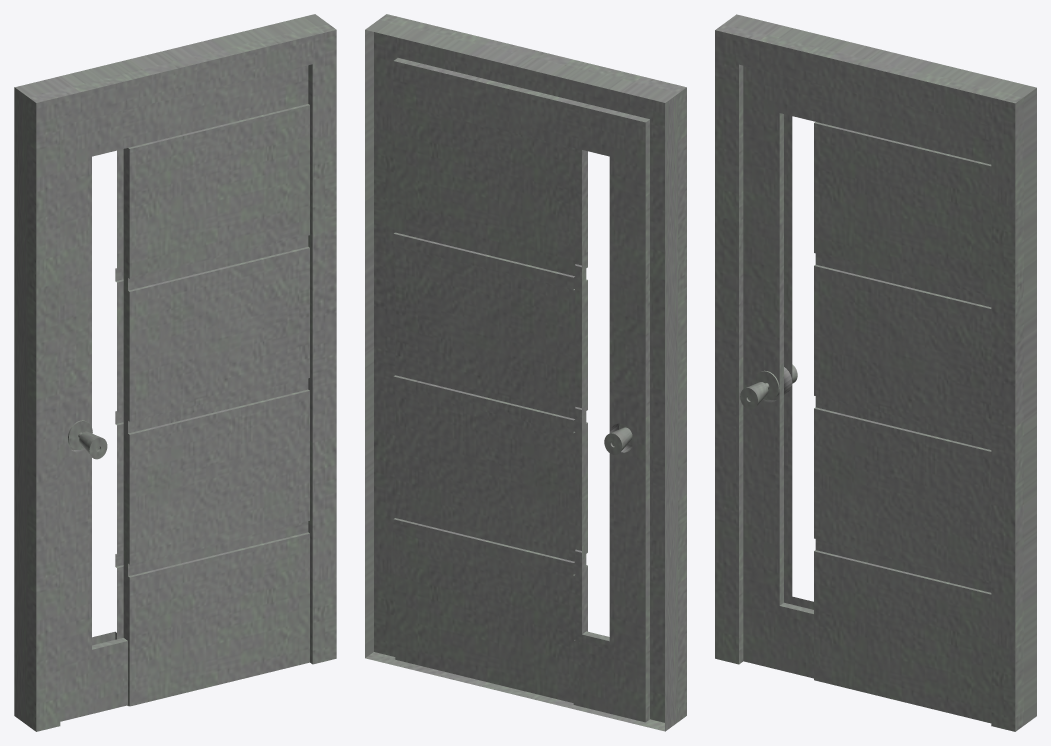
File: puerta.obj
3 renders of one model, left to right at view 1: azimuth 30°, elevation 25°; view 2: azimuth 150°, elevation 25°; view 3: azimuth 330°, elevation 25°, orthographic.
Parts seen in each view (by area): view 1: puerta:Mesh28Door_Glass_Commercial1Model1; view 2: puerta:Mesh28Door_Glass_Commercial1Model1; view 3: puerta:Mesh28Door_Glass_Commercial1Model1.
Boxes of the visible parts, x1,y1,x2,y2 form: puerta:Mesh28Door_Glass_Commercial1Model1: (14, 14, 336, 731); puerta:Mesh28Door_Glass_Commercial1Model1: (365, 14, 686, 731); puerta:Mesh28Door_Glass_Commercial1Model1: (715, 14, 1036, 731).
Bounding box in the file's own units: 1 × 2 × 0.229.
Materials: 1 (1 with a texture image).
